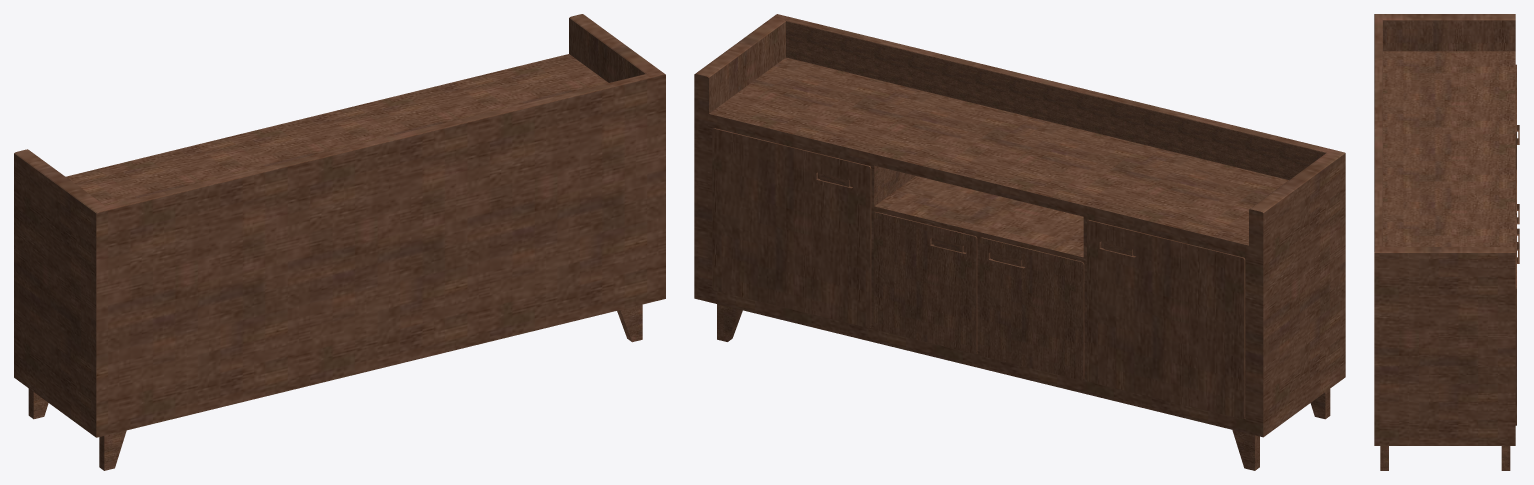
Rendered from rack.glb.
3 views of the same model, side by side, from view 1: azimuth 30°, elevation 25°; view 2: azimuth 150°, elevation 25°; view 3: azimuth 270°, elevation 25° (orthographic). The views are drawn at different scales.
Parts seen in each view (by area): view 1: BaseRack, Pé3, Pé2; view 2: BaseRack, Porta1, Porta2, Porta3, Porta4, Pé4, Pe1; view 3: BaseRack, Porta1, Porta2, Pe1, Pé2.
Boxes of the visible parts, <box> form: BaseRack: <box>14,14,665,437</box>; Pé3: <box>99,430,126,470</box>; Pé2: <box>617,304,642,342</box>; BaseRack: <box>694,14,1345,437</box>; Porta1: <box>712,128,871,327</box>; Porta2: <box>1087,220,1245,419</box>; Porta3: <box>979,237,1084,380</box>; Porta4: <box>873,212,977,353</box>; Pé4: <box>1232,430,1259,470</box>; Pe1: <box>717,304,742,341</box>; BaseRack: <box>1374,14,1515,445</box>; Porta1: <box>1515,221,1519,425</box>; Porta2: <box>1515,64,1519,214</box>; Pe1: <box>1501,446,1510,470</box>; Pé2: <box>1380,446,1388,470</box>.
Size of the model in its own units: 1.8 by 0.7967 by 0.4628.
Materials: 2 (2 with a texture image).
